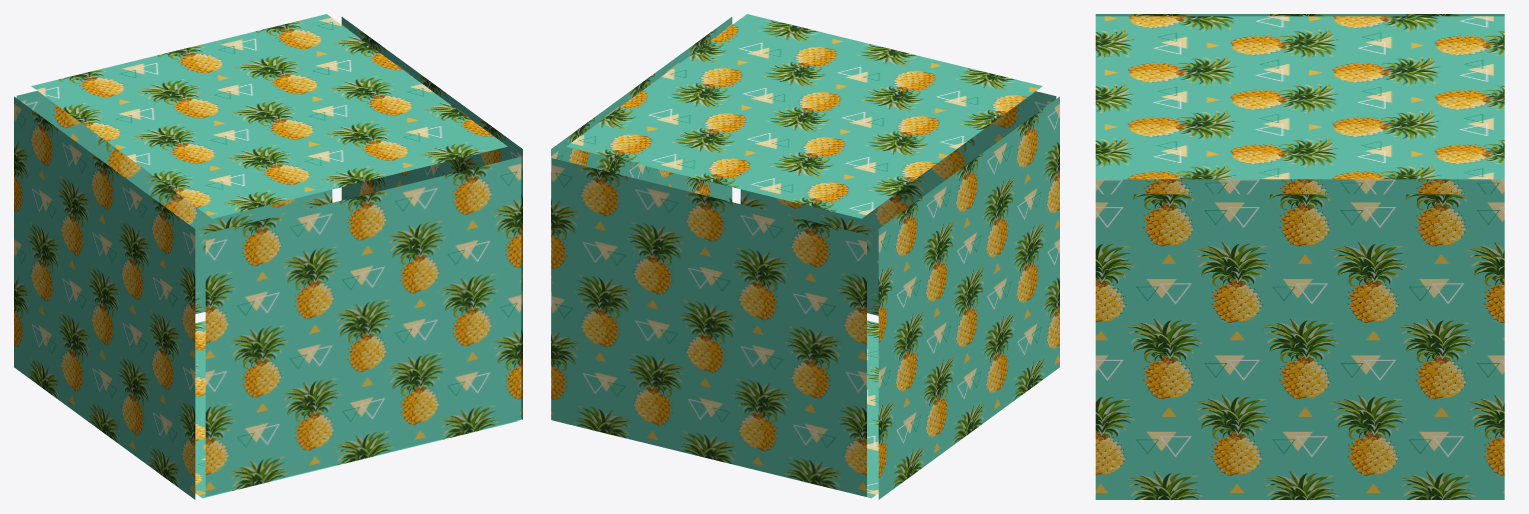
Rendered from pattern10-9x9x5.gltf.
3 views of the same model, side by side, from view 1: azimuth 30°, elevation 25°; view 2: azimuth 150°, elevation 25°; view 3: azimuth 270°, elevation 25° (orthographic). The views are drawn at different scales.
Parts seen in each view (by area): view 1: Cube.005; view 2: Cube.005; view 3: Cube.005.
Boxes of the visible parts, x1,y1,x2,y2 form: Cube.005: (14, 14, 522, 499); Cube.005: (551, 14, 1059, 499); Cube.005: (1095, 14, 1504, 499).
Size of the model in its own units: 3 by 2.43 by 3.
1 material, 1 textured.
